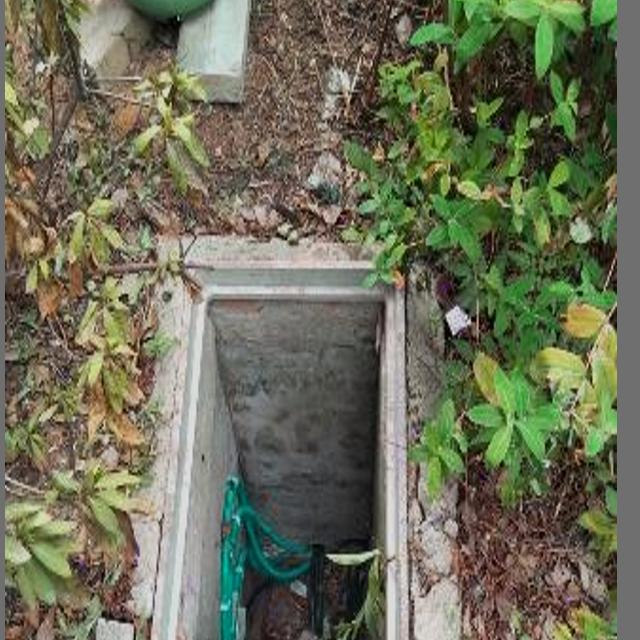lose: (150, 260, 416, 640)
